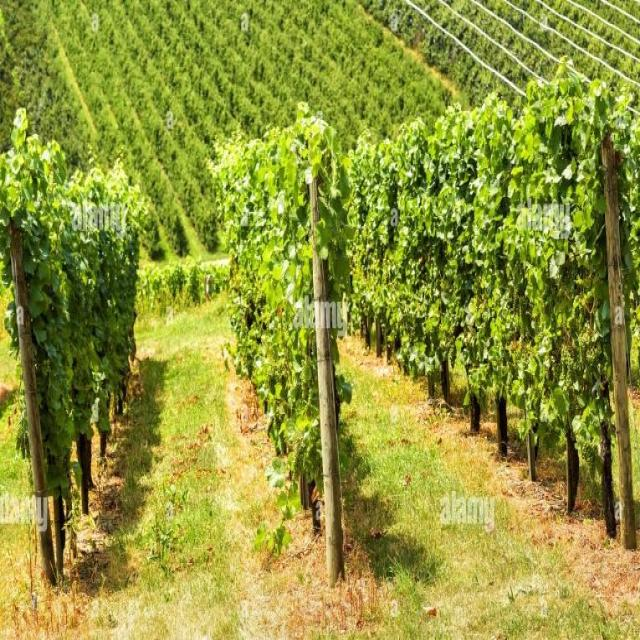row: (333, 319, 635, 601), (55, 356, 302, 620)
